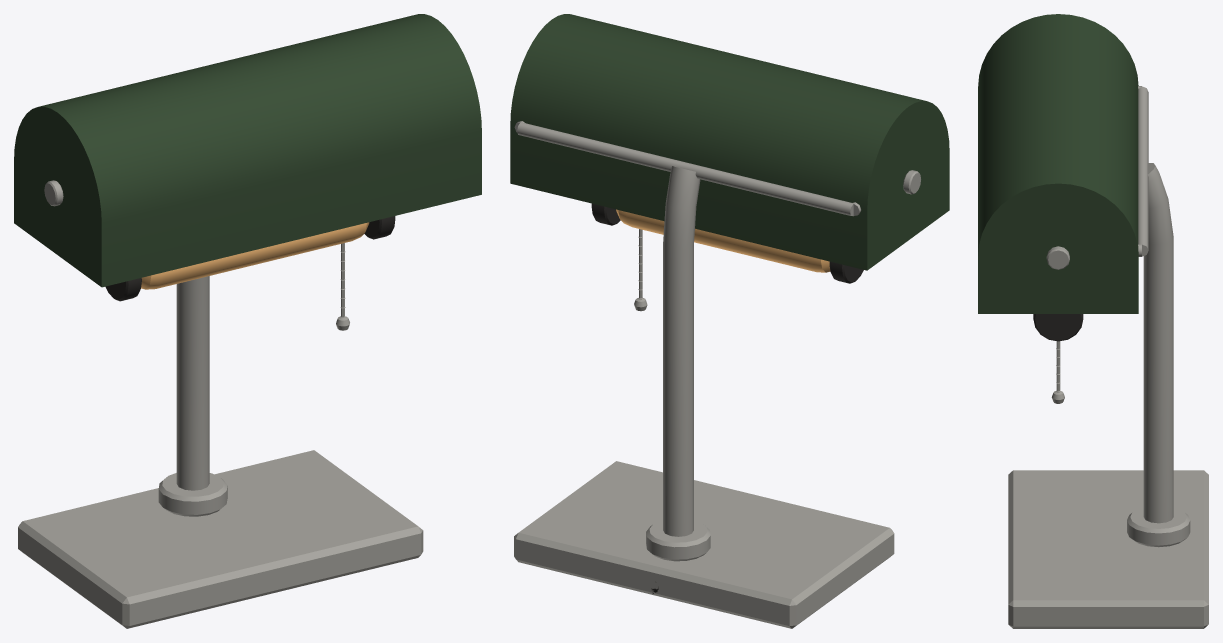
File: desk-lamp-banker-5bf9a37f2d24.glb
3 views of the same model, side by side, from view 1: azimuth 30°, elevation 25°; view 2: azimuth 150°, elevation 25°; view 3: azimuth 270°, elevation 25° (orthographic). The views are drawn at different scales.
Visible parts, largest first — view 1: enamel-green, brushed, emissive-warm, plastic-dark; view 2: enamel-green, brushed, emissive-warm, plastic-dark; view 3: enamel-green, brushed, plastic-dark.
Boxes of the visible parts, x1,y1,x2,y2 form: enamel-green: (14,14,481,287); brushed: (18,180,423,628); emissive-warm: (141,222,369,289); plastic-dark: (105,216,395,301); enamel-green: (510,14,949,270); brushed: (514,121,920,628); emissive-warm: (616,209,830,272); plastic-dark: (591,203,863,283); enamel-green: (978,14,1138,313); brushed: (1008,86,1208,628); plastic-dark: (1033,314,1083,341).
Size of the model in its own units: 0.25 by 0.31 by 0.138.
